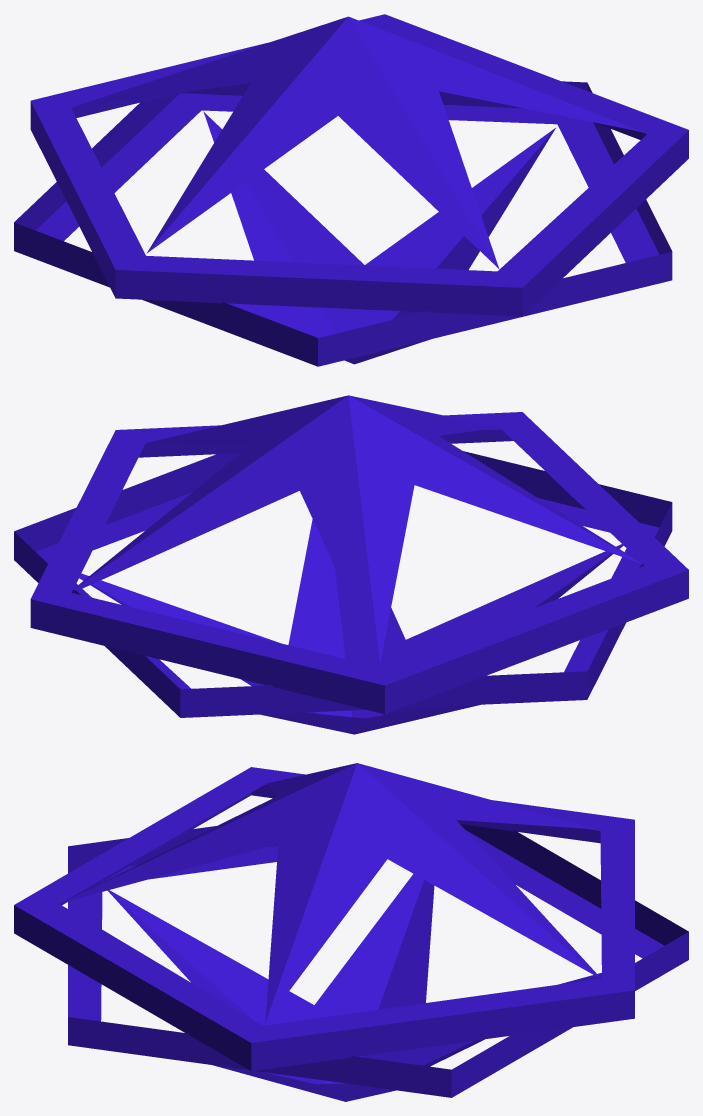
The model's file is star3d2.fbx.
3 renders of one model, top to bottom at view 1: azimuth 30°, elevation 25°; view 2: azimuth 150°, elevation 25°; view 3: azimuth 270°, elevation 25°, orthographic.
Parts seen in each view (by area): view 1: Cone, Cone.001; view 2: Cone, Cone.001; view 3: Cone, Cone.001.
Part boxes in pixels (x1=…): Cone: x1=30, y1=14, x2=688, y2=316; Cone.001: x1=14, y1=81, x2=672, y2=366; Cone: x1=30, y1=395, x2=688, y2=714; Cone.001: x1=14, y1=451, x2=672, y2=734; Cone: x1=14, y1=763, x2=634, y2=1071; Cone.001: x1=68, y1=824, x2=688, y2=1101.
Size of the model in its own units: 1.6 by 0.9163 by 1.65.
